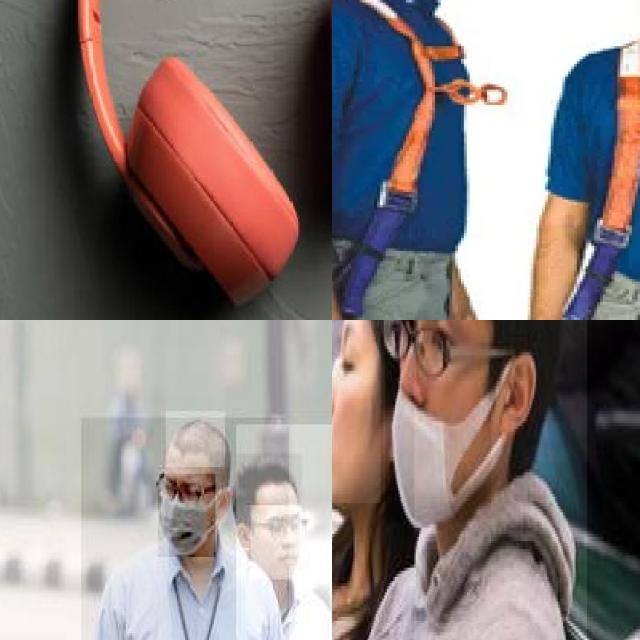Ear-protection: (59, 0, 332, 281)
Harness: (332, 0, 467, 320)
No_Ear-Protection: (498, 342, 542, 446), (234, 521, 254, 555)
face_mask: (385, 320, 490, 521), (158, 474, 215, 557)
face_nomask: (332, 320, 380, 503), (250, 506, 302, 580)
glasses: (381, 320, 451, 381), (154, 473, 216, 513), (266, 512, 310, 546)
head_nohelmet: (166, 411, 227, 469), (236, 454, 302, 505)
person: (332, 320, 588, 640), (81, 417, 289, 640), (332, 320, 415, 640), (236, 424, 332, 640)
